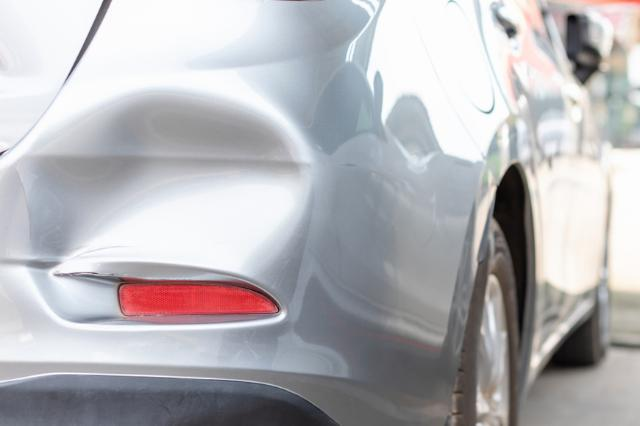Bumper: (7, 83, 392, 359)
